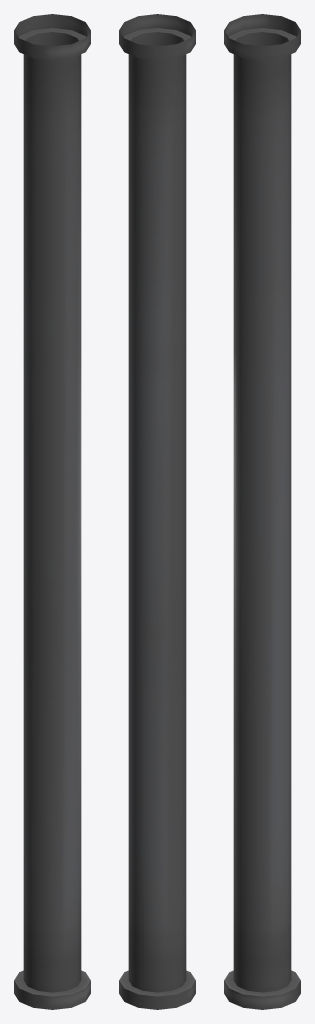
Rendered from S1_mod_Pipe_002.fbx.
The picture shows the model from 3 angles, left to right: view 1: azimuth 90°, elevation 25°; view 2: azimuth 150°, elevation 25°; view 3: azimuth 270°, elevation 25°; orthographic projection.
Visible parts, largest first — view 1: S1_mod_Pipe_002; view 2: S1_mod_Pipe_002; view 3: S1_mod_Pipe_002.
Part boxes in pixels (<box>): S1_mod_Pipe_002: <box>14,14,90,1009</box>; S1_mod_Pipe_002: <box>119,14,195,1009</box>; S1_mod_Pipe_002: <box>224,14,300,1009</box>.
Bounding box in the file's own units: 19.94 × 276 × 19.94.
